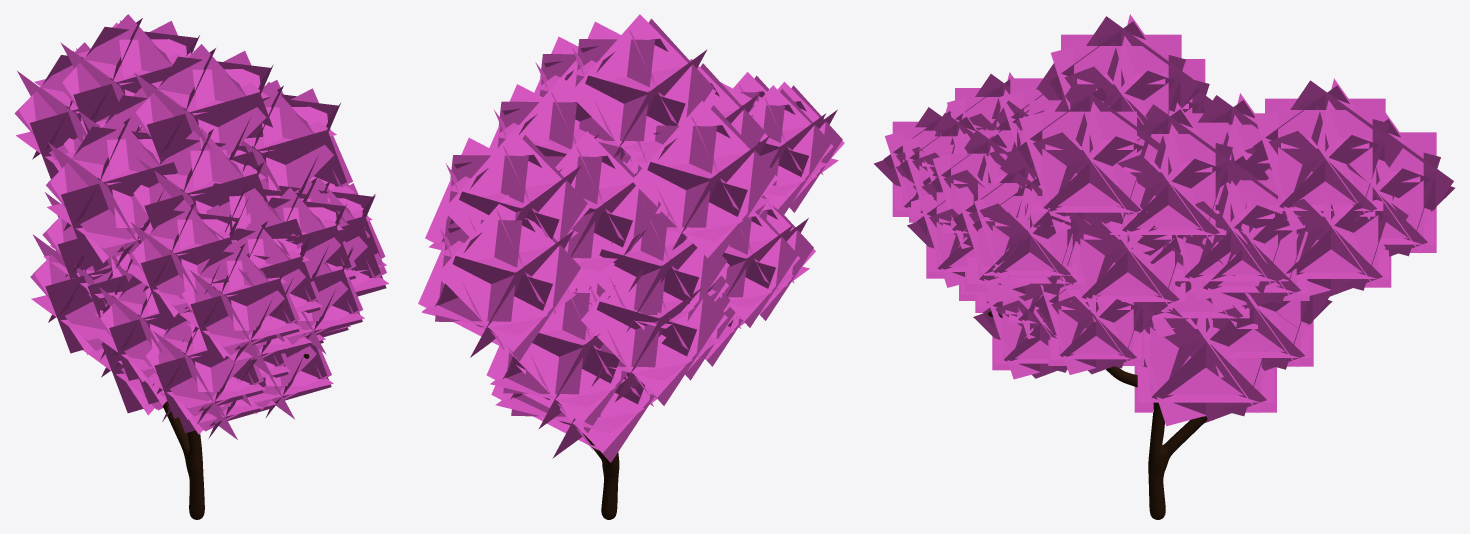
File: 樱花树(2).fbx
3 views of the same model, side by side, from view 1: azimuth 30°, elevation 25°; view 2: azimuth 150°, elevation 25°; view 3: azimuth 270°, elevation 25° (orthographic). The views are drawn at different scales.
Visible parts, largest first — view 1: 棱角球.002, 棱角球.003, 棱角球.001, 平面.001, 棱角球; view 2: 棱角球.002, 棱角球.001, 棱角球.003, 棱角球, 平面.001; view 3: 棱角球.002, 棱角球.003, 棱角球.001, 棱角球, 平面.001.
Boxes of the visible parts, x1,y1,x2,y2 form: 棱角球.002: [14, 14, 388, 360]; 棱角球.003: [129, 178, 386, 377]; 棱角球.001: [97, 276, 350, 439]; 平面.001: [163, 354, 309, 519]; 棱角球: [83, 342, 170, 421]; 棱角球.002: [418, 14, 778, 432]; 棱角球.001: [685, 205, 815, 380]; 棱角球.003: [720, 72, 844, 216]; 棱角球: [491, 354, 656, 462]; 平面.001: [583, 433, 619, 519]; 棱角球.002: [952, 14, 1454, 377]; 棱角球.003: [874, 72, 1091, 291]; 棱角球.001: [959, 283, 1154, 379]; 棱角球: [1134, 308, 1297, 426]; 平面.001: [988, 311, 1207, 519].
Bounding box in the file's own units: 382 × 679 × 716.
